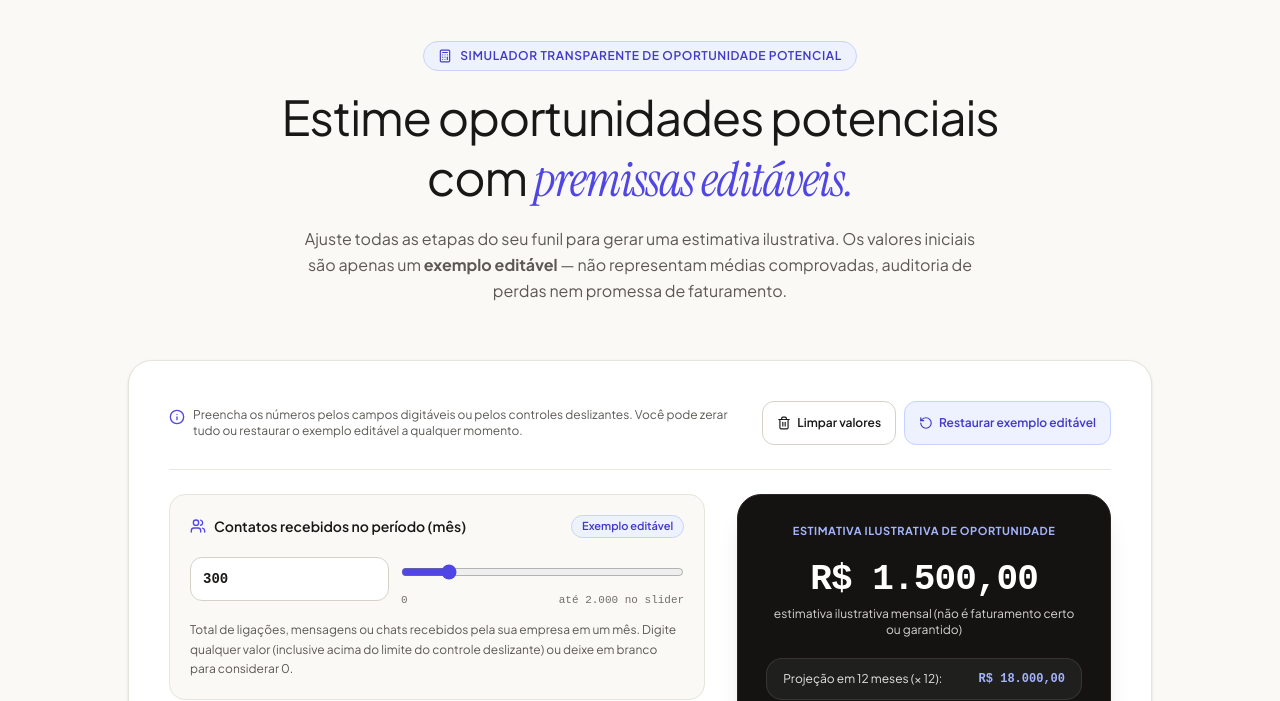
Test: Simulador transparente de oportunidade potencial (LostRevenueCalculator) › suporta valores altos na função pura e nos campos digitáveis da interface
Replace the text in the number field labelled "Contatos recebidos no período (mês)" with "50000": (289, 579) [203,561,376,597]
(page scrolled)
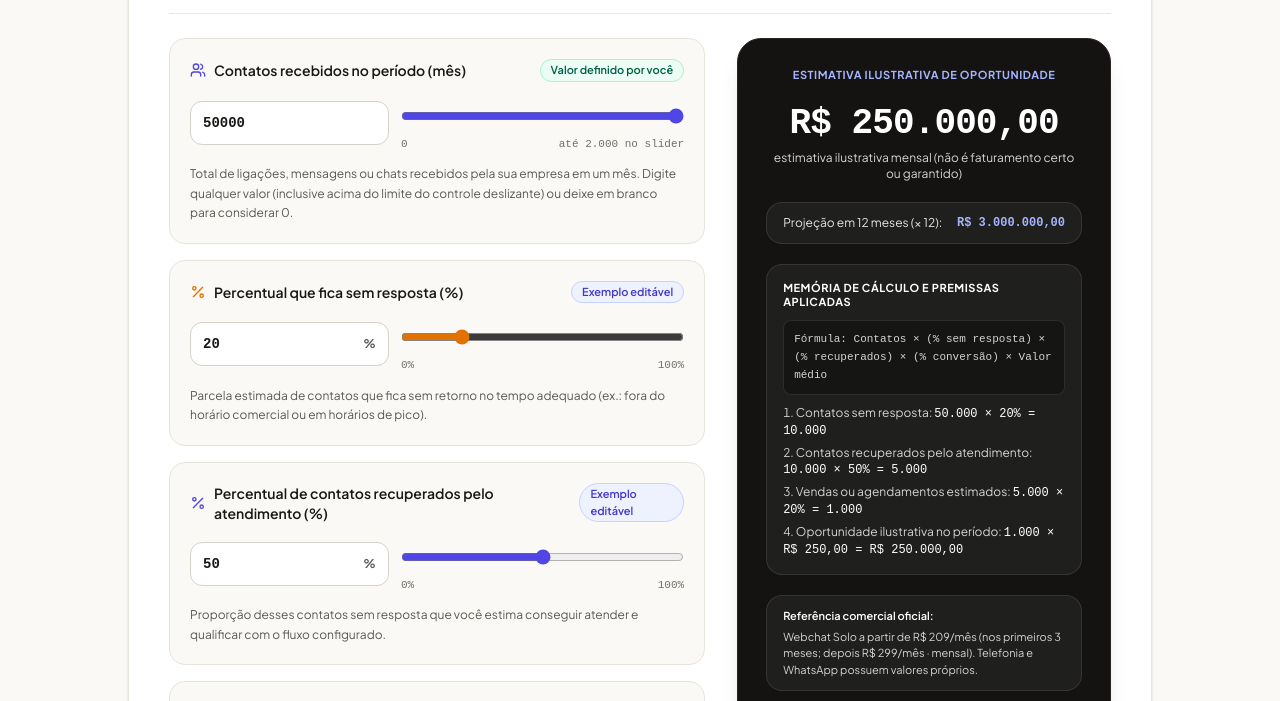
Replace the text in the number field labelled "Percentual que fica sem resposta (%)" with "40": (280, 344) [203,326,357,362]
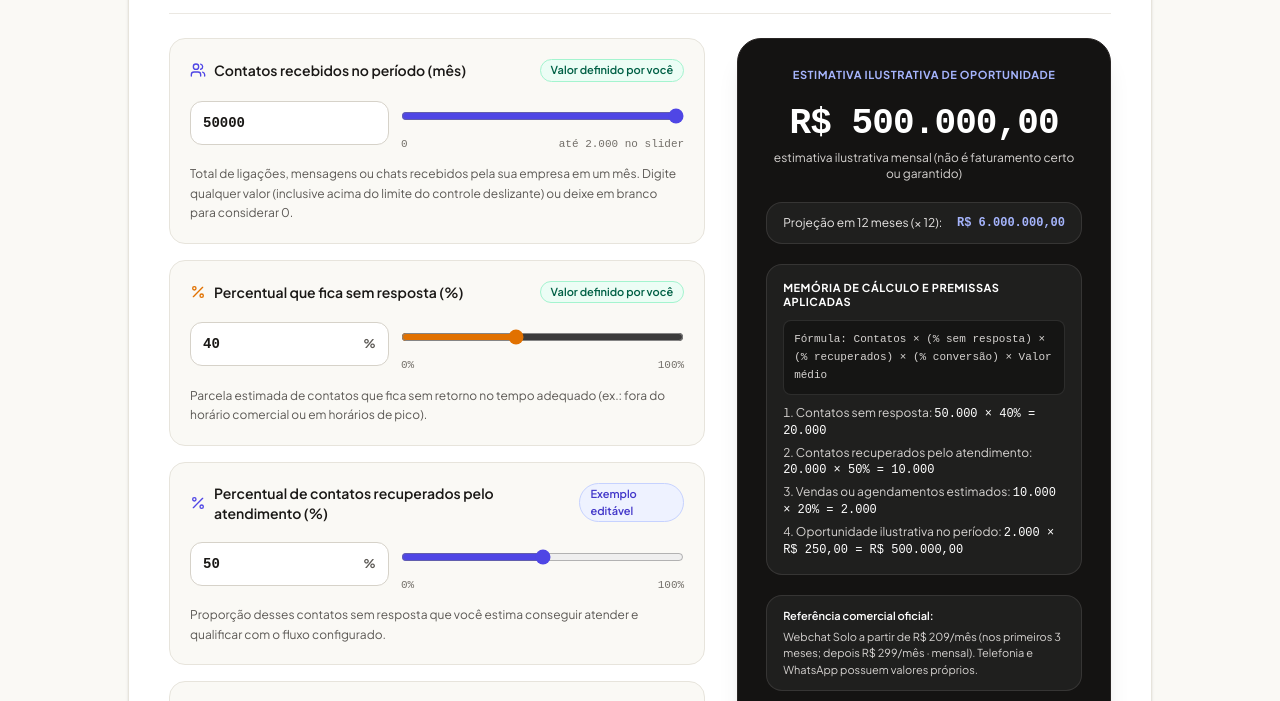
Replace the text in the number field labelled "Percentual de contatos recuperados pelo atendimento (%)" with "75": (280, 564) [203,546,357,582]
(page scrolled)
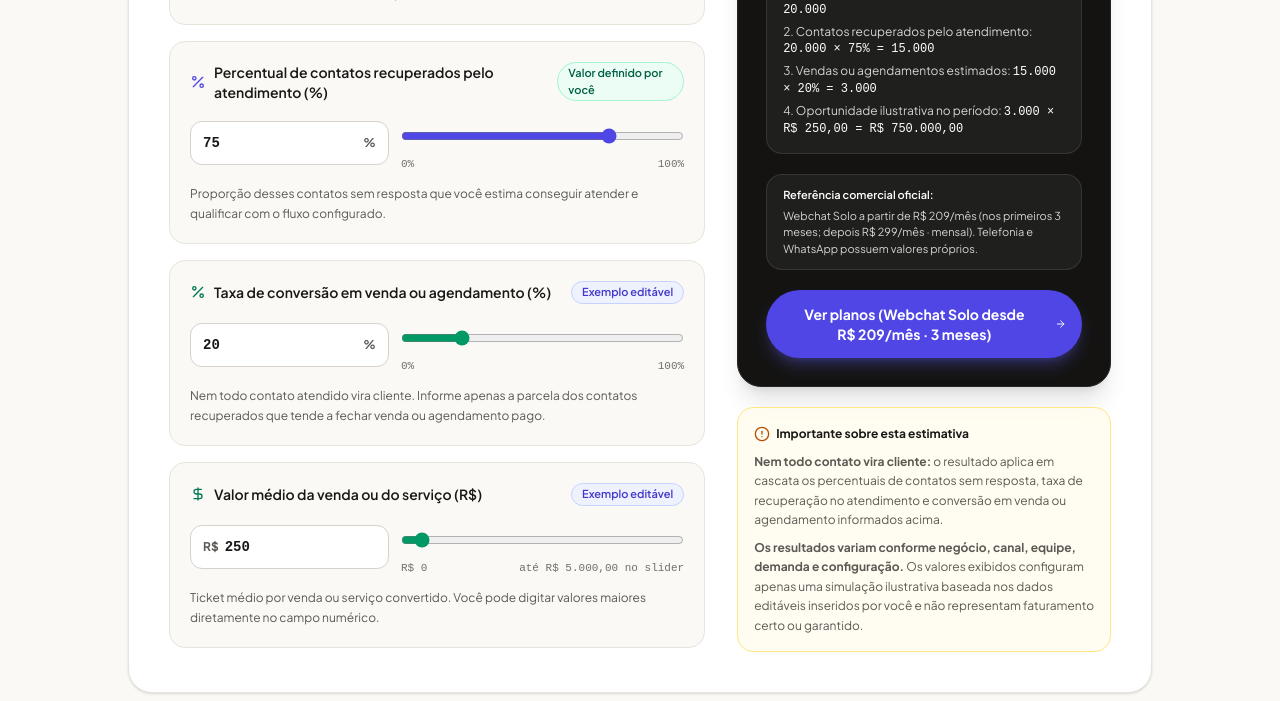
Replace the text in the number field labelled "Taxa de conversão em venda ou agendamento (%)" with "30": (280, 345) [203,327,357,363]
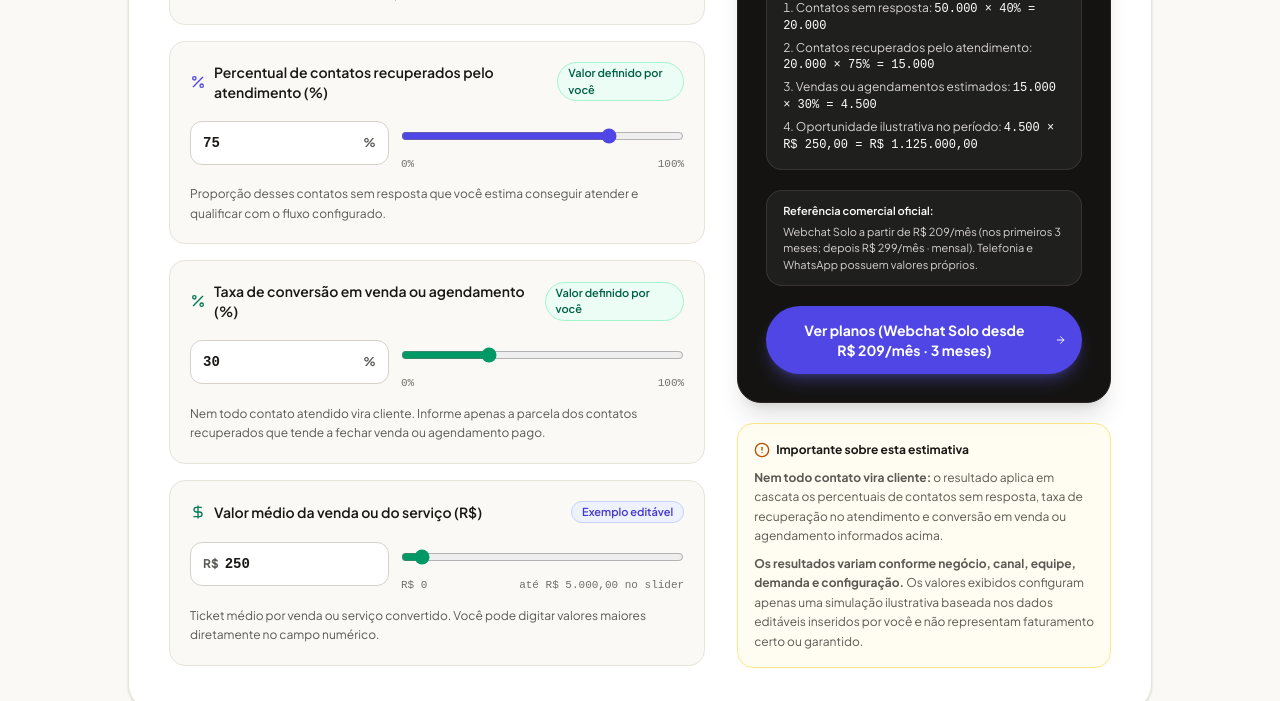
Replace the text in the number field labelled "Valor médio da venda ou do serviço (R$)" with "10000": (300, 564) [225,546,376,582]
(page scrolled)
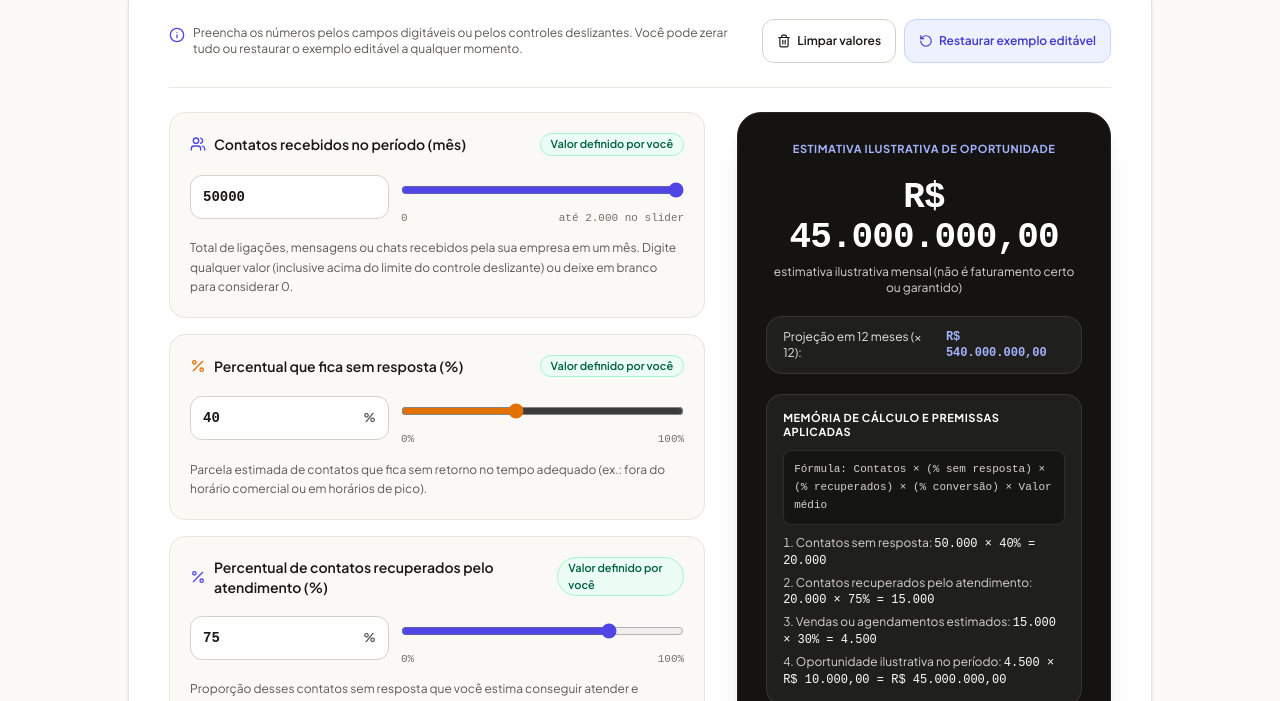
Expected: the text with test id "opportunity-monthly-output" reads "R$ 45.000.000,00", [790,176,1059,258]
Expected: the text with test id "opportunity-annual-output" reads "R$ 540.000.000,00", [946,330,1047,360]
